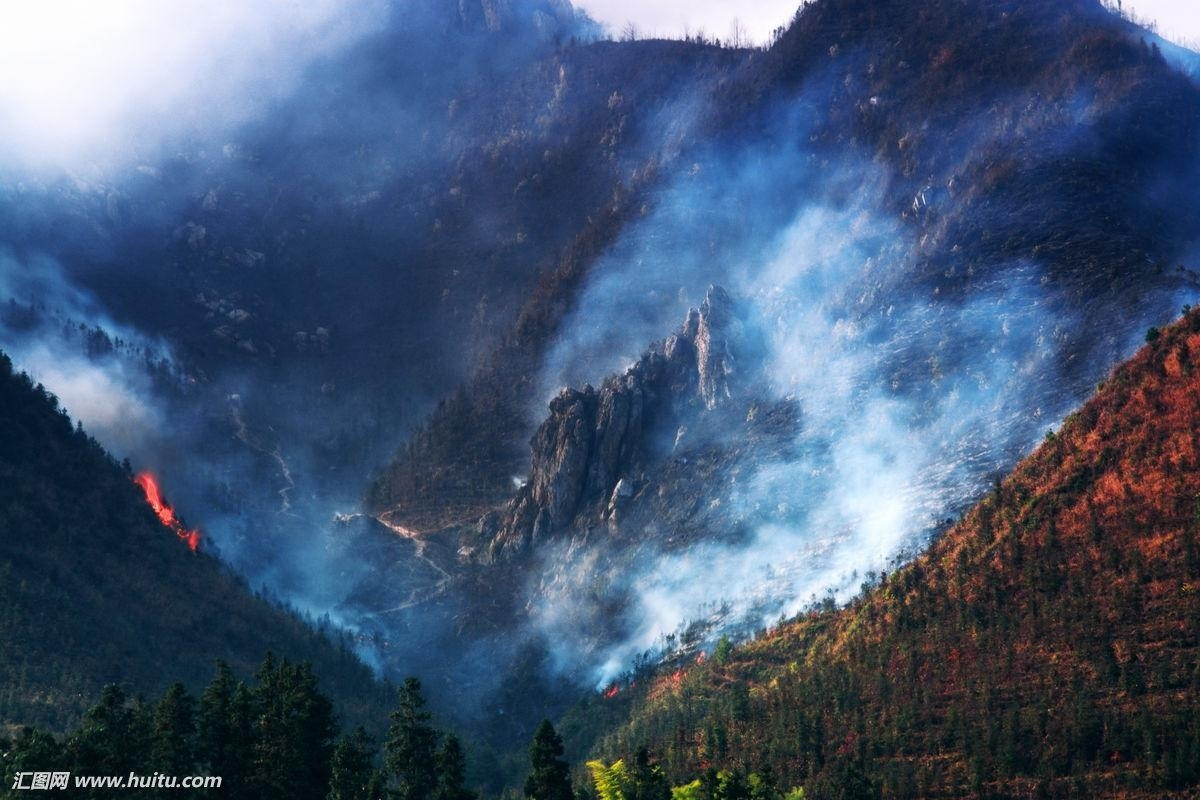fire: (137, 468, 200, 553), (649, 655, 699, 698)
